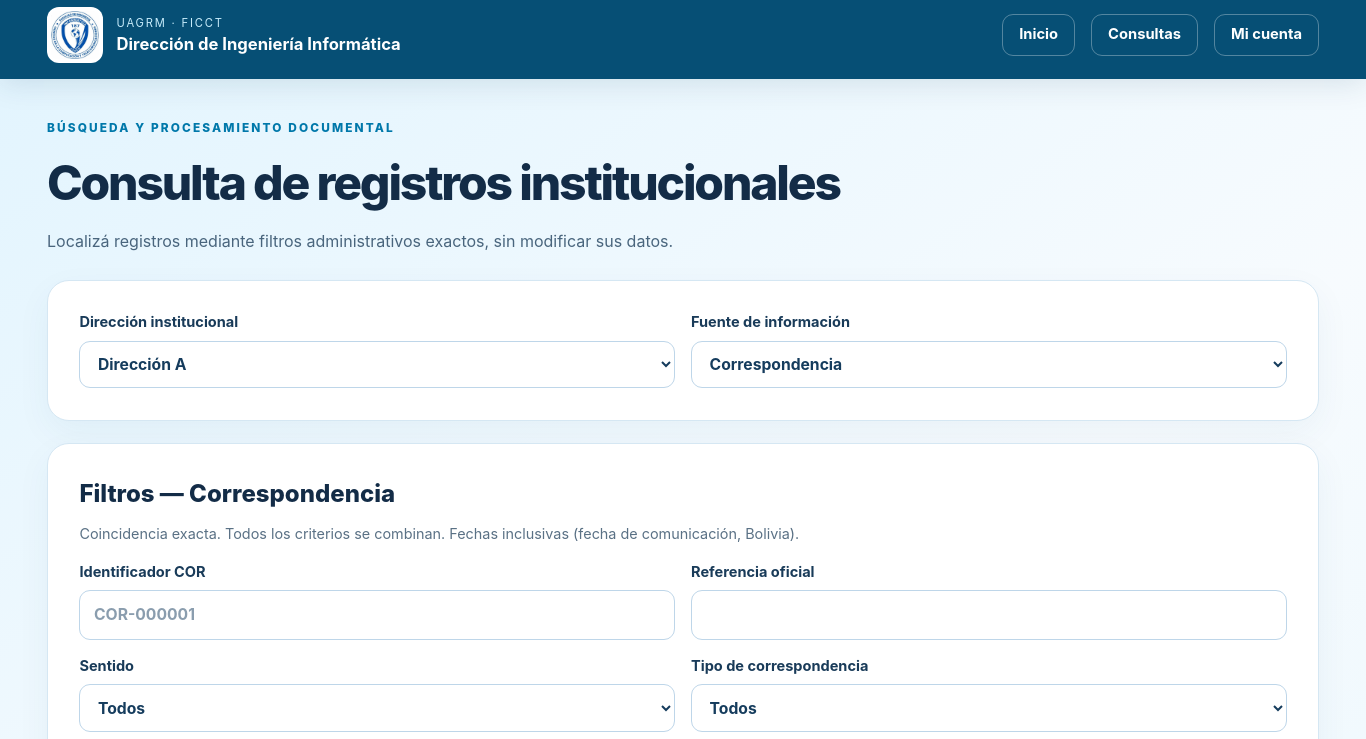
Scenario: CU-33 interfaz de consulta convencional › envía filtros exactos combinados, conserva los aplicados al paginar y limpia al cambiar fuente
The width and height of the screenshot is (1366, 739).
In the field labelled "Referencia oficial": x=989, y=615 [691,590,1287,640], type "OF-1"
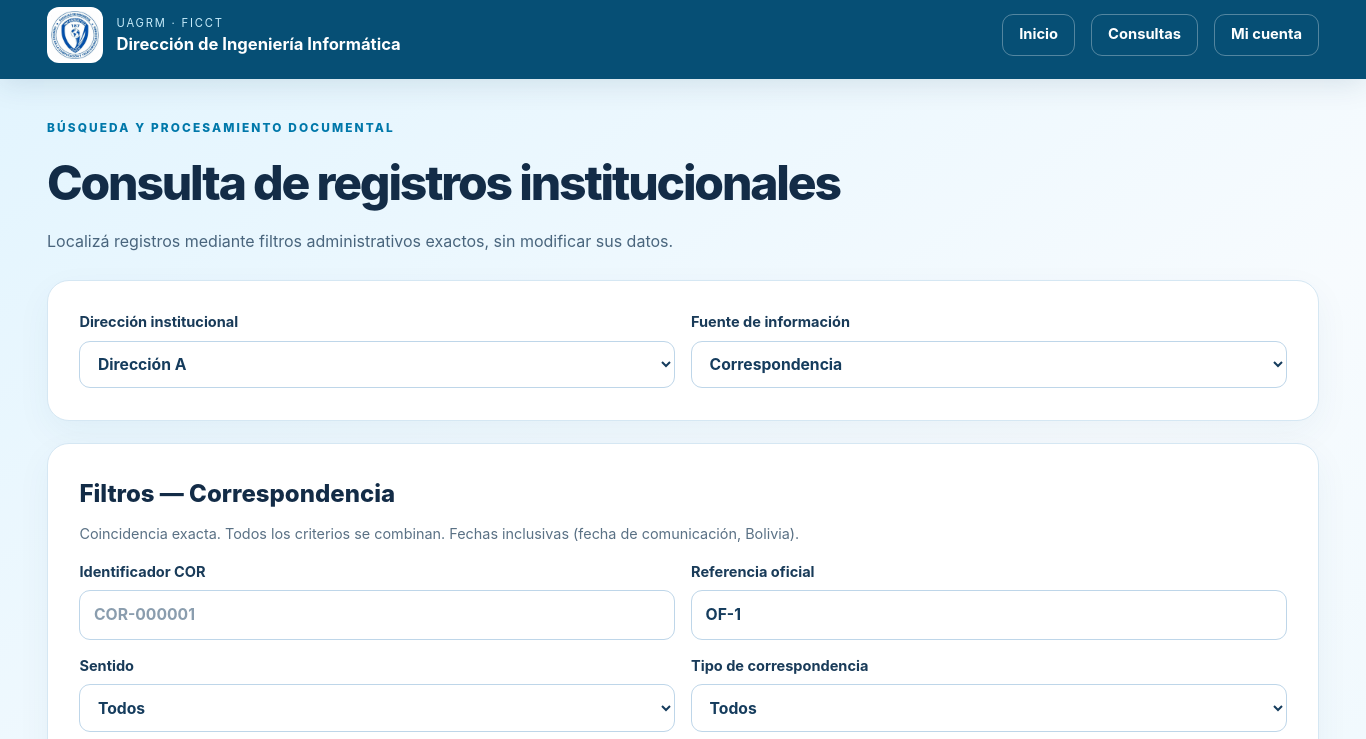
Select "Recibida" in the dropdown labelled "Sentido": x=377, y=708 [79,684,675,732]
(page scrolled)
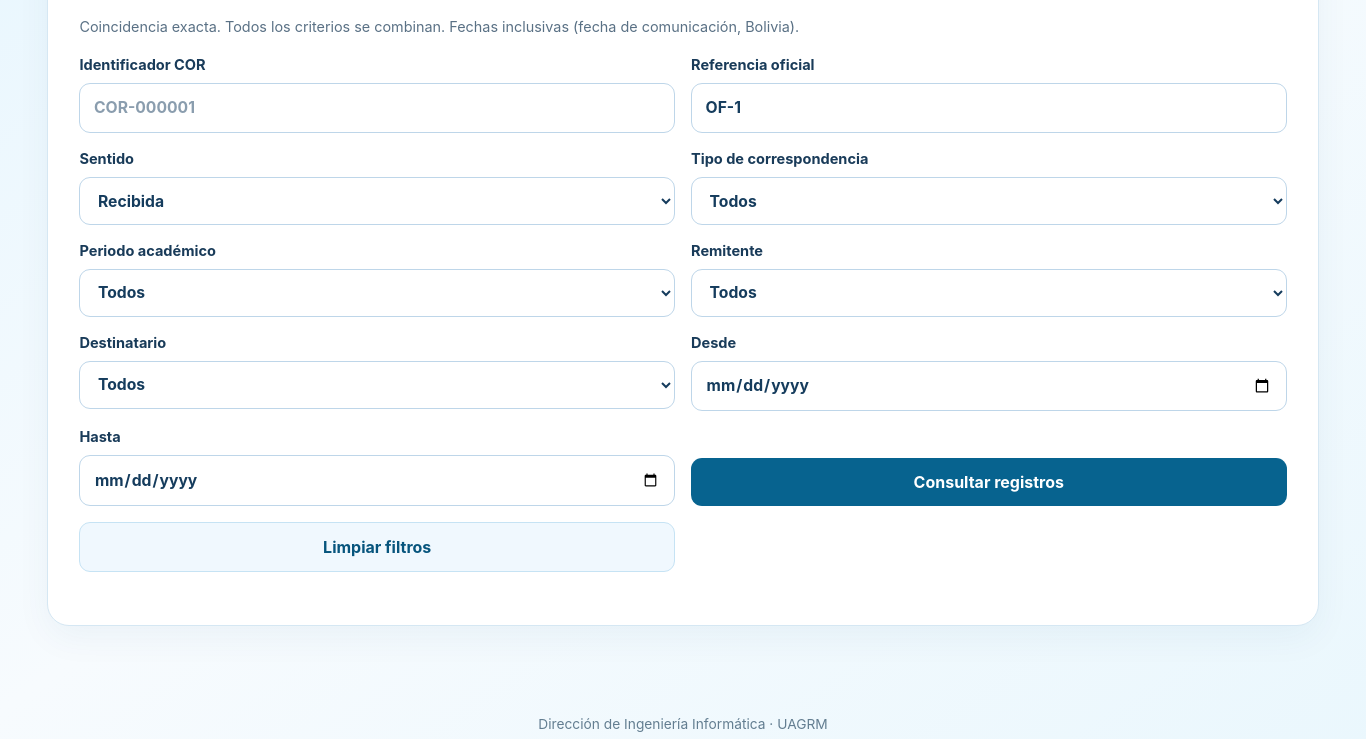
Click the button "Consultar registros": x=989, y=482 [691,458,1287,506]
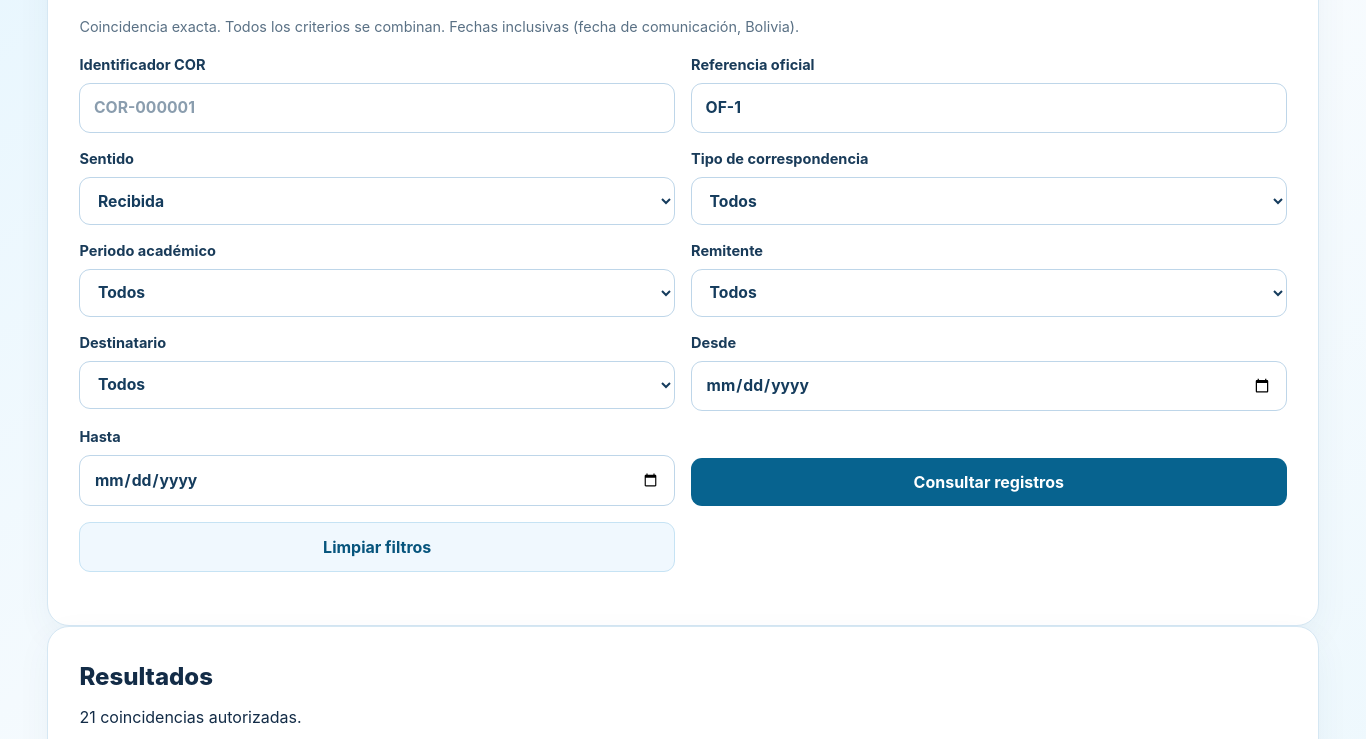
Expected: the text "21 coincidencias autorizadas." is shown, [79,707,302,727]
Replace the text in the field labelled "Referencia oficial" with "OF-2": x=989, y=108 [691,83,1287,133]
(page scrolled)
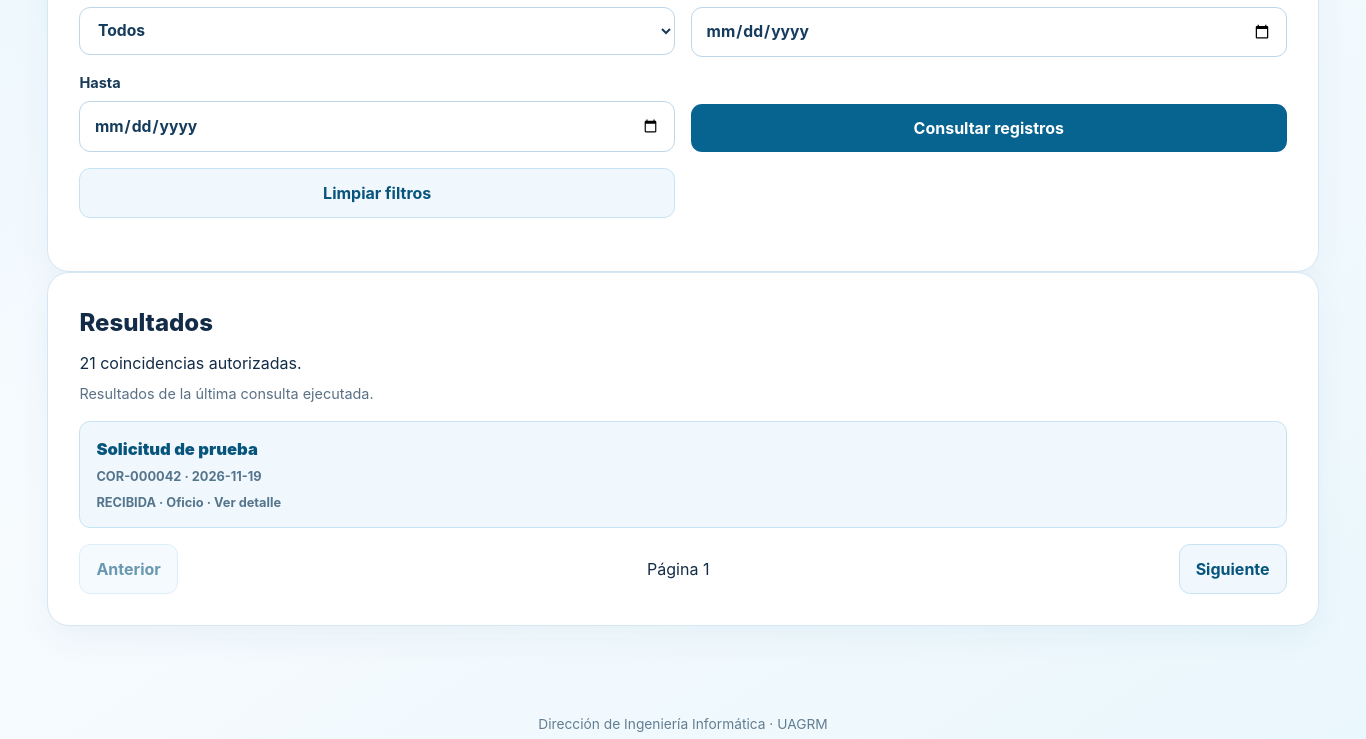
Click the button "Siguiente": x=1233, y=569 [1179,544,1287,594]
(page scrolled)
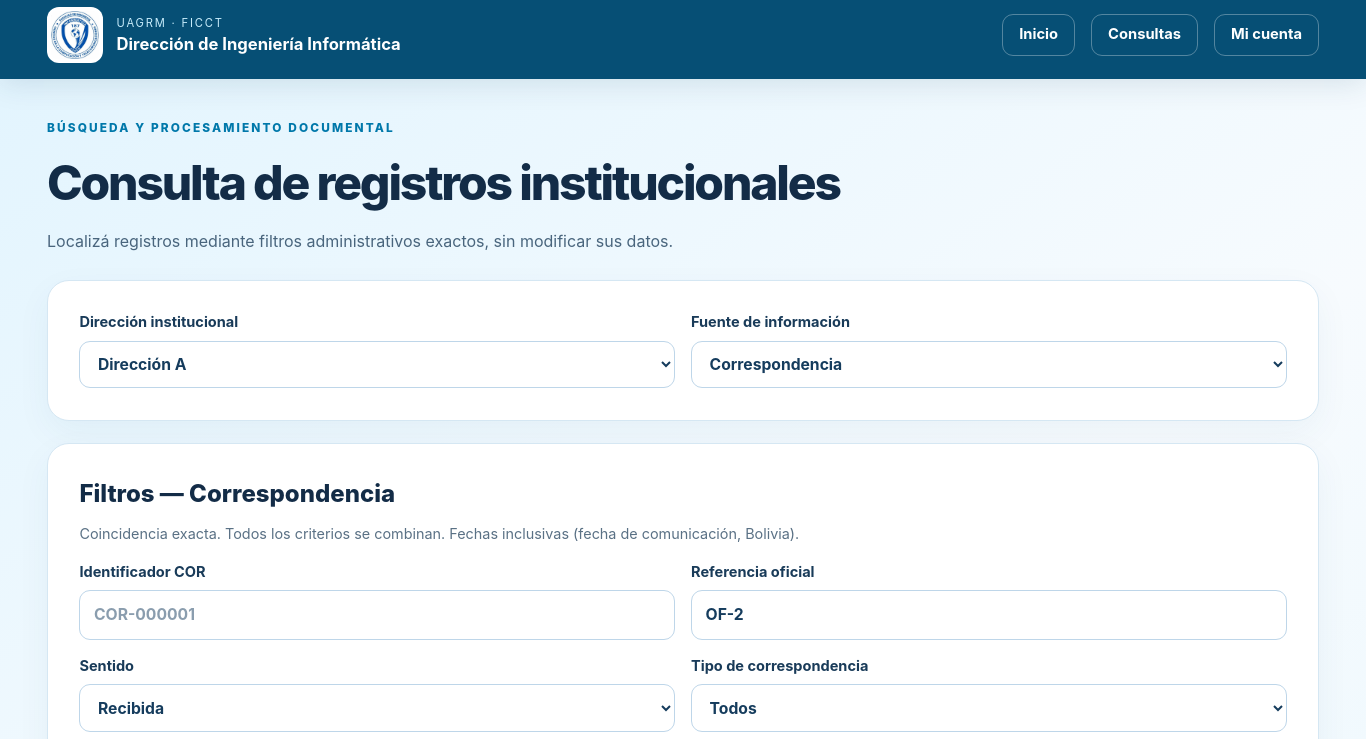
Select "Documentos" in the dropdown labelled "Fuente de información": x=989, y=364 [691,341,1287,388]
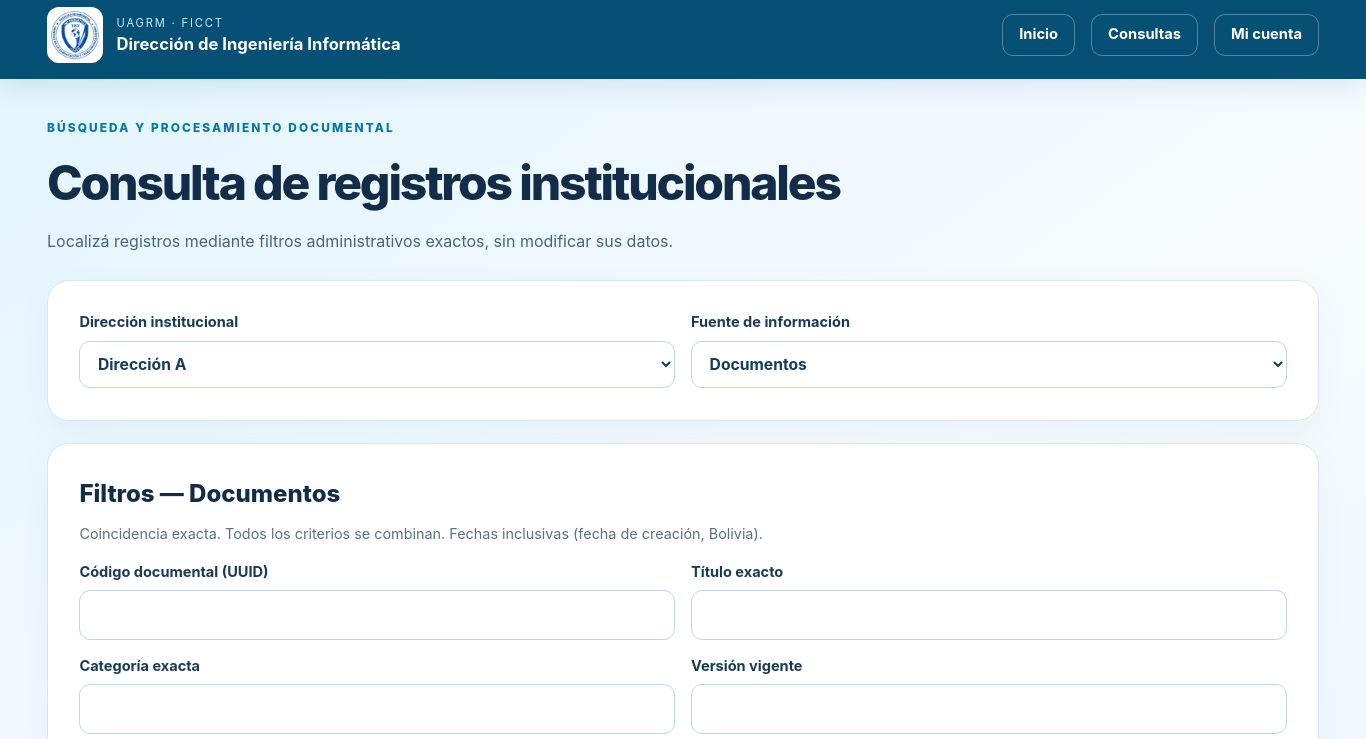
Expected: the field labelled "Título exacto" is shown, [691,590,1287,640]
Expected: the label labelled "Referencia oficial" is gone
